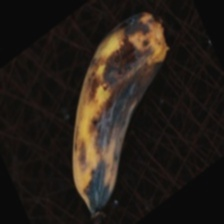banana: (49, 35, 196, 185)
